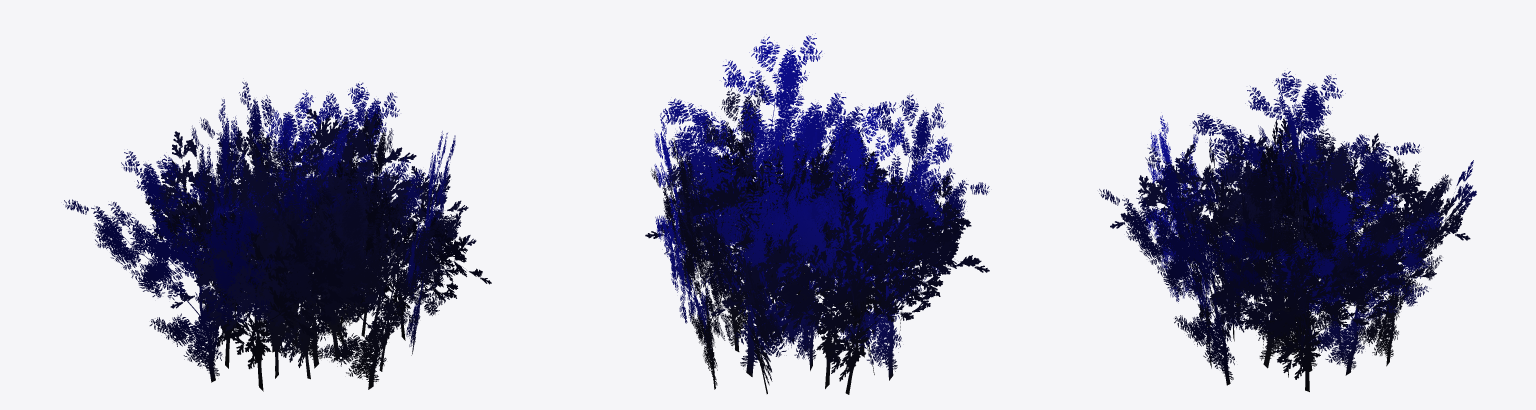
The model's file is SM_Foliage_ShrubTallA_06.fbx.
The picture shows the model from 3 angles, left to right: view 1: azimuth 30°, elevation 25°; view 2: azimuth 150°, elevation 25°; view 3: azimuth 270°, elevation 25°; orthographic projection. The views are drawn at different scales.
Visible parts, largest first — view 1: SM_Foliage_ShrubTallA_06; view 2: SM_Foliage_ShrubTallA_06; view 3: SM_Foliage_ShrubTallA_06.
Boxes of the visible parts, x1=… form: SM_Foliage_ShrubTallA_06: x1=63, y1=82, x2=491, y2=391; SM_Foliage_ShrubTallA_06: x1=645, y1=33, x2=989, y2=394; SM_Foliage_ShrubTallA_06: x1=1099, y1=71, x2=1476, y2=391.
Bounding box in the file's own units: 407 × 404 × 261.
